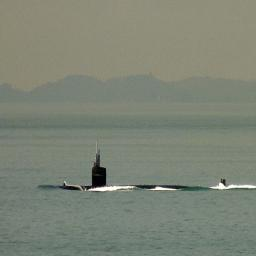submarine: (64, 141, 228, 191)
